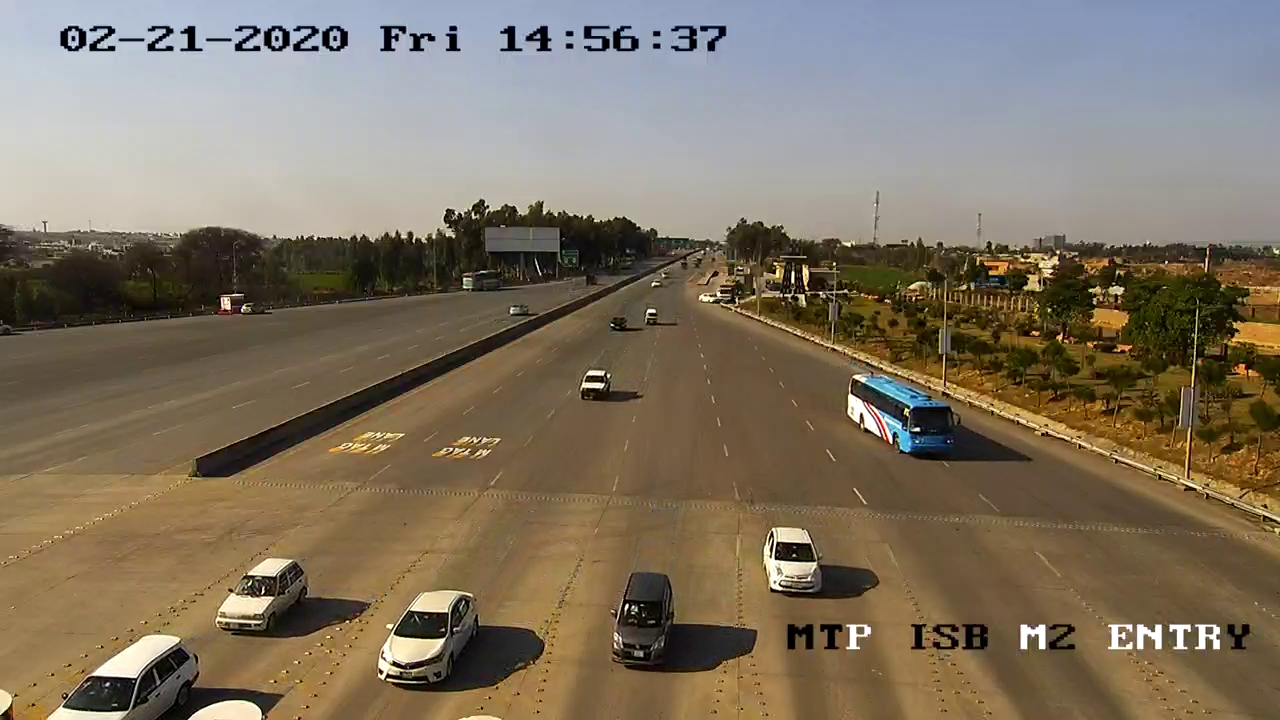f1: (366, 578, 487, 703), (208, 551, 319, 649), (603, 559, 685, 678), (754, 513, 837, 611)
f4: (832, 363, 969, 474)
